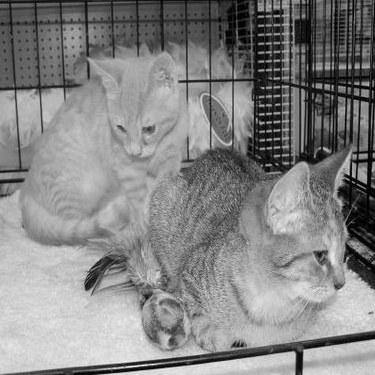cat: (77, 157, 364, 340), (21, 40, 253, 222)
